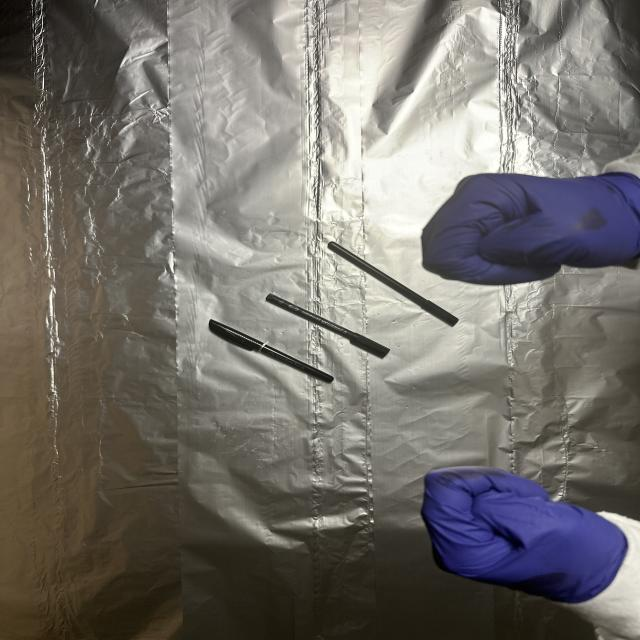gloves_contaminated: (422, 468, 630, 604), (422, 172, 640, 284)
